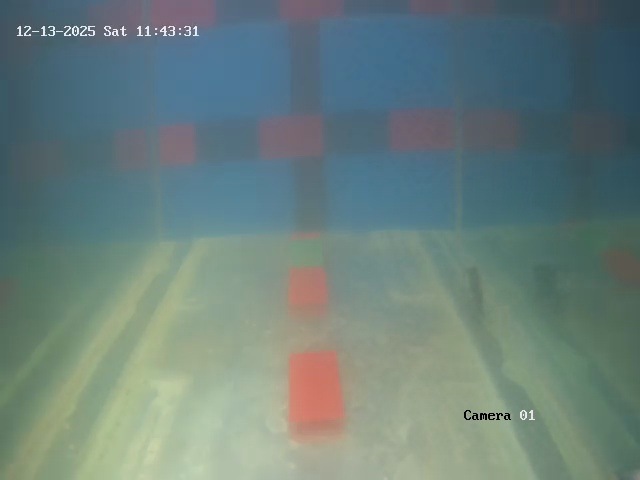fish: (458, 266, 493, 317)
